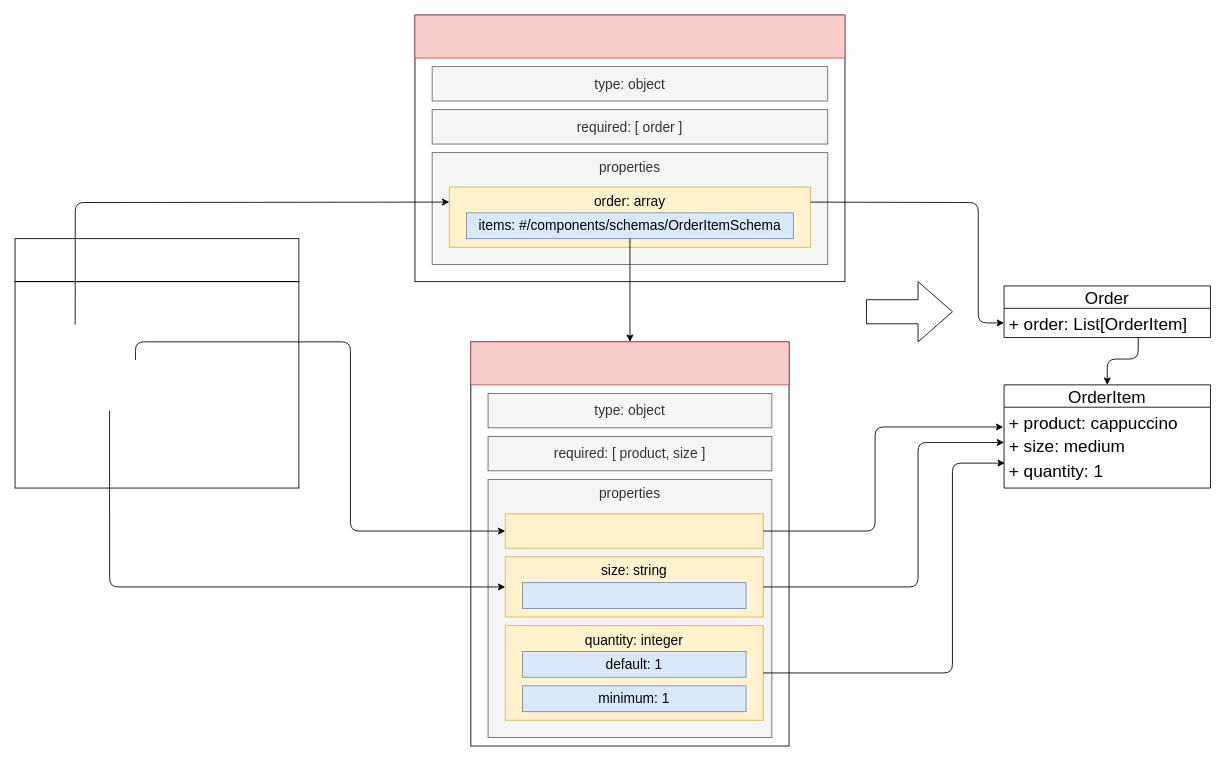
Some shapes in this 1226 by 761 pixel diagram are drawn without their labels. Here are the shapes that lost their labels. From the top down, the centre of each, then its label:
the point at 629,36: CreateOrderSchema
the point at 156,260: Request payload
the point at 629,363: OrderItemSchema
the point at 156,384: { 'order': [ { 'product': 'cappuccino', 'size': 'medium', } ] }
the point at 633,530: product: string
the point at 634,595: Enum: [ small, medium, big ]
